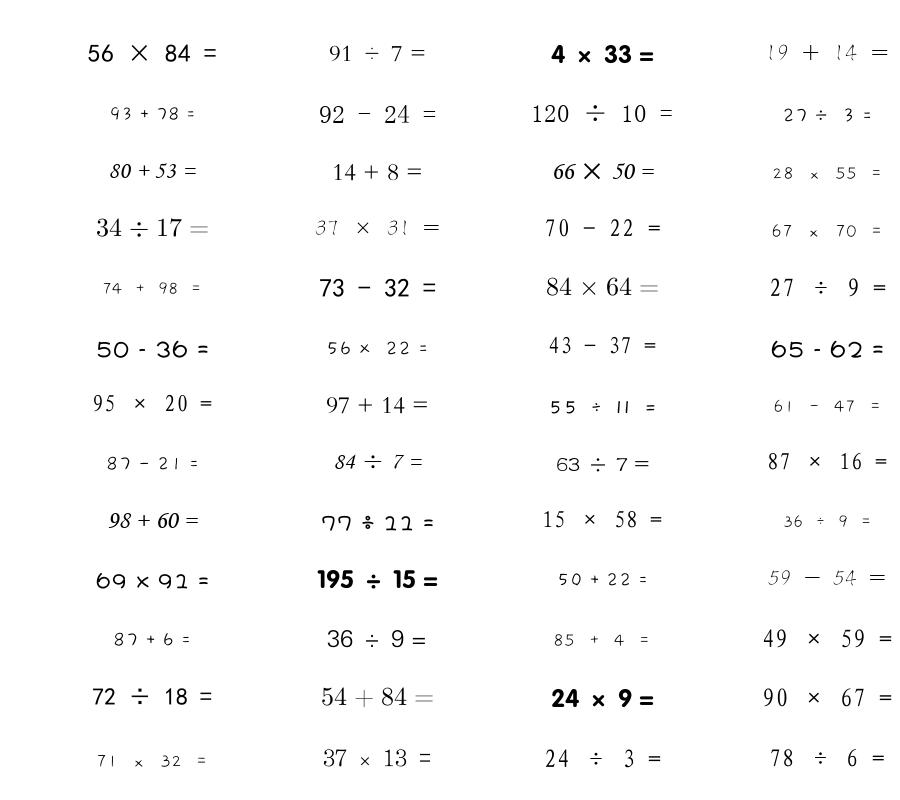MQ: (531, 104, 673, 122), (762, 629, 892, 648), (762, 688, 892, 707), (317, 569, 438, 589), (321, 687, 434, 708), (88, 44, 217, 62), (319, 278, 436, 297), (769, 278, 886, 297), (544, 749, 661, 768), (92, 394, 212, 412), (767, 452, 887, 470), (542, 510, 662, 528), (96, 218, 209, 237), (546, 277, 659, 296), (765, 44, 889, 61), (319, 105, 436, 123), (544, 219, 661, 237), (769, 749, 885, 767), (551, 44, 654, 64), (551, 688, 654, 708), (92, 688, 212, 705), (96, 340, 209, 358), (771, 340, 884, 358), (315, 220, 440, 236), (548, 336, 656, 354), (323, 749, 431, 767), (96, 572, 209, 589), (327, 629, 427, 648), (768, 570, 886, 586), (321, 515, 434, 531), (551, 163, 654, 180), (326, 397, 429, 414), (329, 45, 426, 62), (771, 224, 883, 238), (332, 164, 423, 181), (326, 341, 428, 356), (773, 399, 882, 413), (96, 755, 208, 768), (772, 167, 883, 180), (548, 401, 657, 414), (106, 456, 199, 471), (556, 457, 649, 472), (107, 513, 198, 528), (782, 108, 872, 123), (333, 454, 422, 469), (108, 163, 196, 178), (102, 282, 202, 295), (557, 573, 648, 587), (553, 634, 651, 647), (109, 107, 196, 121), (113, 632, 191, 647), (783, 515, 872, 528)
